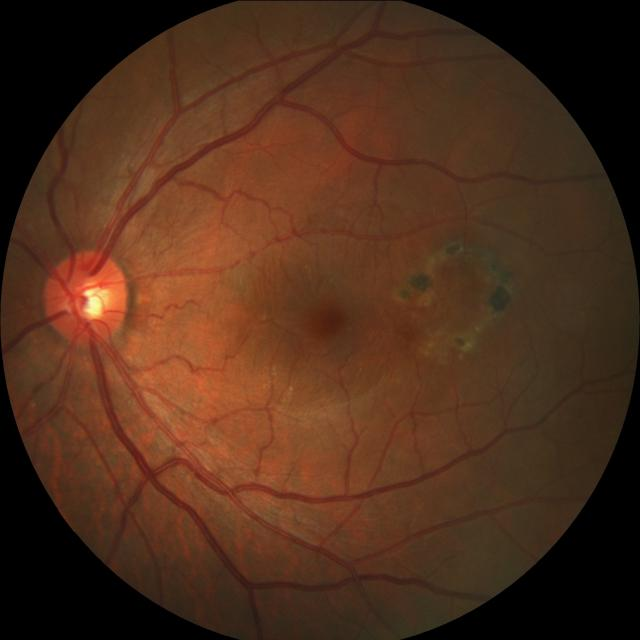OC: (66, 276, 110, 321)
OD: (47, 251, 130, 345)
